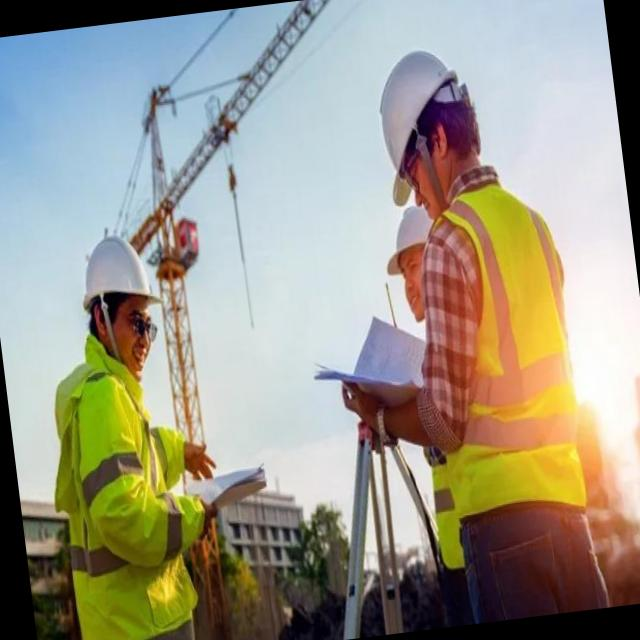Helmet: (356, 27, 478, 203), (70, 232, 162, 312)
Vest: (431, 181, 588, 519)
